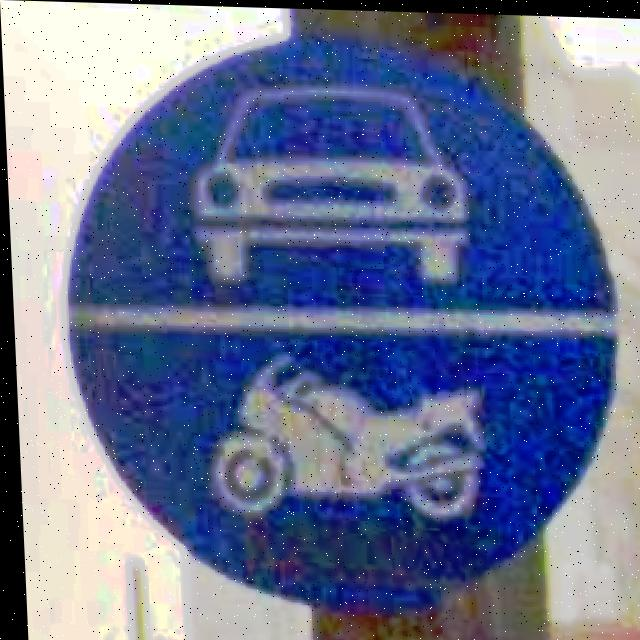carmotorcycle: (46, 19, 628, 616)
